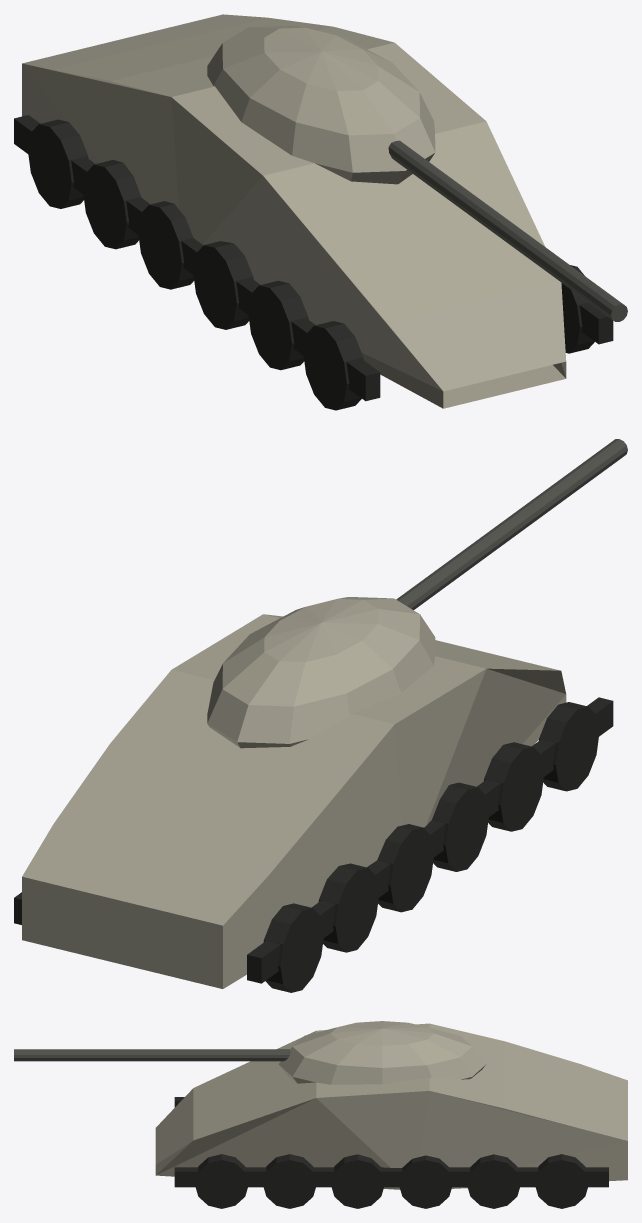
Rendered from katyusha.glb.
3 views of the same model, one above another, from view 1: azimuth 30°, elevation 25°; view 2: azimuth 150°, elevation 25°; view 3: azimuth 270°, elevation 25° (orthographic). The views are drawn at different scales.
Visible parts, largest first — view 1: Hull, Turret, Gun, Track_L, Wheel_L_01, Wheel_L_02, Wheel_L_06, Wheel_L_03, Wheel_L_05, Wheel_L_04, Wheel_R_01, Track_R; view 2: Hull, Turret, Gun, Track_L, Wheel_L_06, Wheel_L_01, Wheel_L_02, Wheel_L_05, Wheel_L_03, Wheel_L_04; view 3: Hull, Turret, Gun, Track_R, Wheel_R_01, Wheel_R_02, Wheel_R_06, Wheel_R_05, Wheel_R_03, Wheel_R_04.
Boxes of the visible parts, x1,y1,x2,y2 form: Hull: (22, 14, 566, 408); Turret: (207, 25, 435, 184); Gun: (388, 140, 627, 321); Track_L: (14, 115, 380, 401); Wheel_L_01: (303, 321, 363, 410); Wheel_L_02: (248, 280, 308, 370); Wheel_L_06: (28, 119, 88, 208); Wheel_L_03: (193, 241, 253, 329); Wheel_L_05: (83, 160, 140, 249); Wheel_L_04: (138, 201, 194, 289); Wheel_R_01: (561, 265, 594, 353); Track_R: (579, 302, 613, 344); Hull: (22, 614, 566, 988); Turret: (207, 597, 435, 748); Gun: (396, 439, 627, 610); Track_L: (247, 697, 613, 983); Wheel_L_06: (263, 903, 324, 992); Wheel_L_01: (539, 702, 599, 791); Wheel_L_02: (484, 742, 544, 831); Wheel_L_05: (318, 863, 379, 952); Wheel_L_03: (432, 782, 489, 871); Wheel_L_04: (377, 824, 434, 912); Hull: (155, 1023, 627, 1189); Turret: (278, 1021, 486, 1084); Gun: (14, 1049, 290, 1061); Track_R: (174, 1167, 608, 1187); Wheel_R_01: (194, 1154, 248, 1208); Wheel_R_02: (262, 1154, 316, 1208); Wheel_R_06: (534, 1154, 588, 1208); Wheel_R_05: (466, 1154, 520, 1208); Wheel_R_03: (330, 1154, 384, 1208); Wheel_R_04: (398, 1155, 452, 1208).
Bounding box in the file's own units: 2.29 × 1.99 × 7.8.
